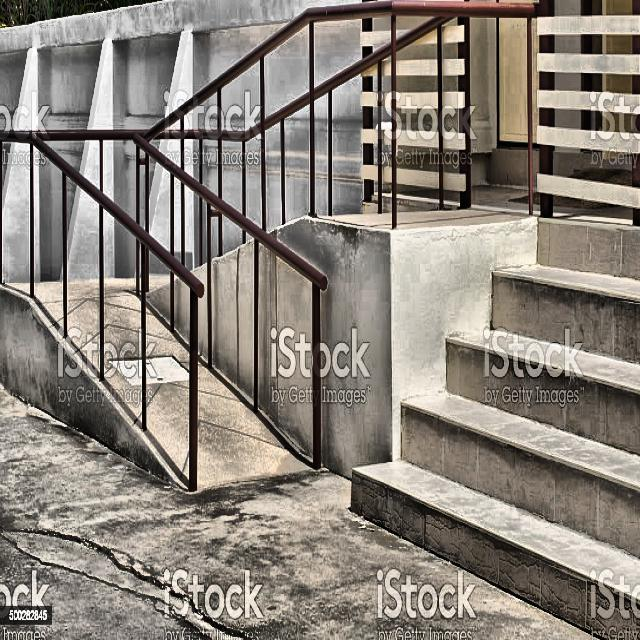escada: (352, 223, 640, 640)
